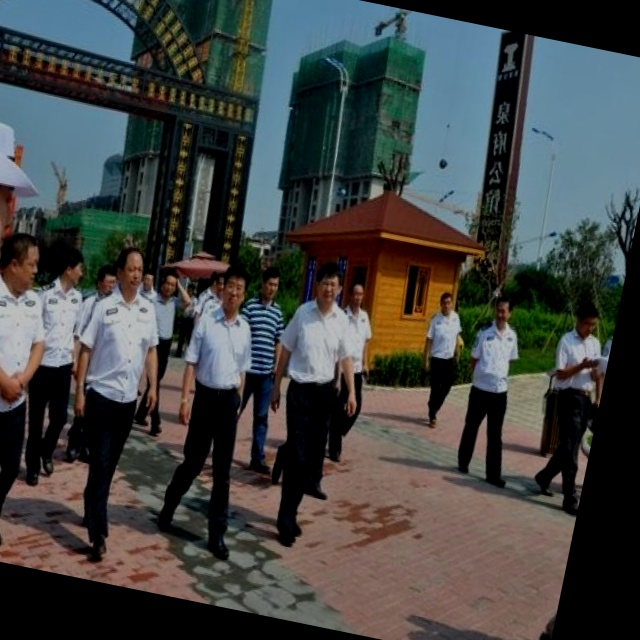Sin_Casco_Mascarrilla: (112, 243, 150, 296), (309, 260, 347, 311)
